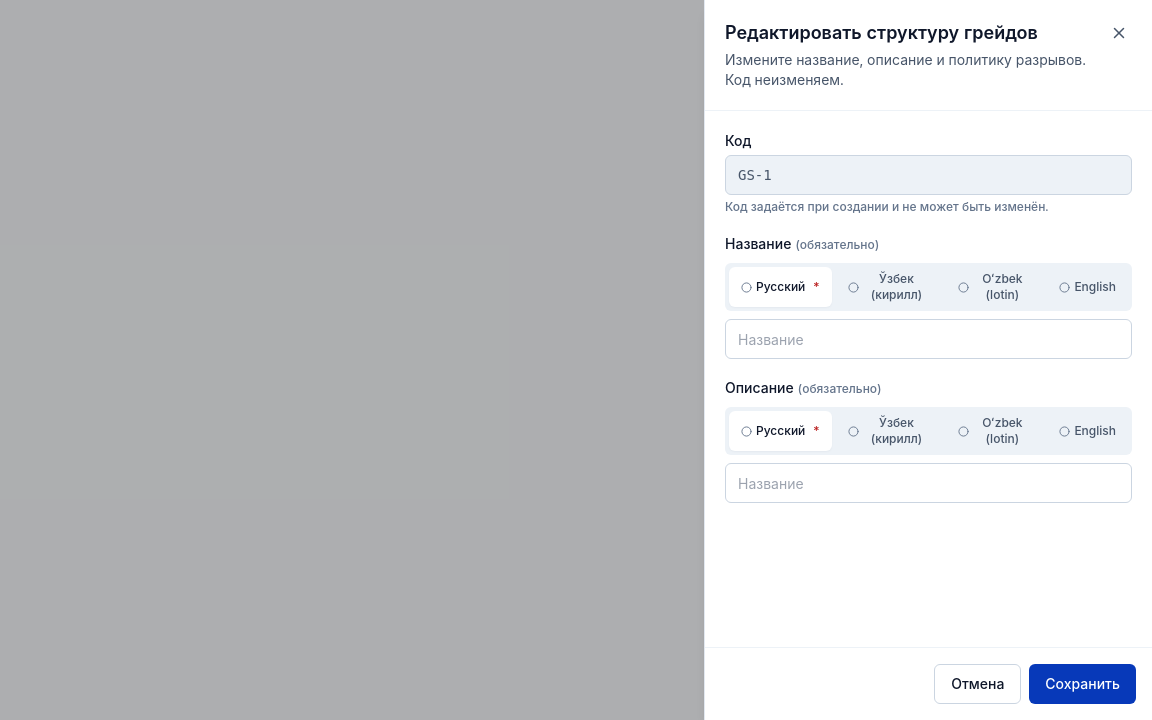
Test: GradeStructureMetadataDrawer (FE-5) › requires a name in at least one language
The width and height of the screenshot is (1152, 720).
What coordinates should you click on to do the following:
click the button "Сохранить"
I would click on:
 (1083, 684)
Its box is x1=1029 y1=664 x2=1136 y2=704.
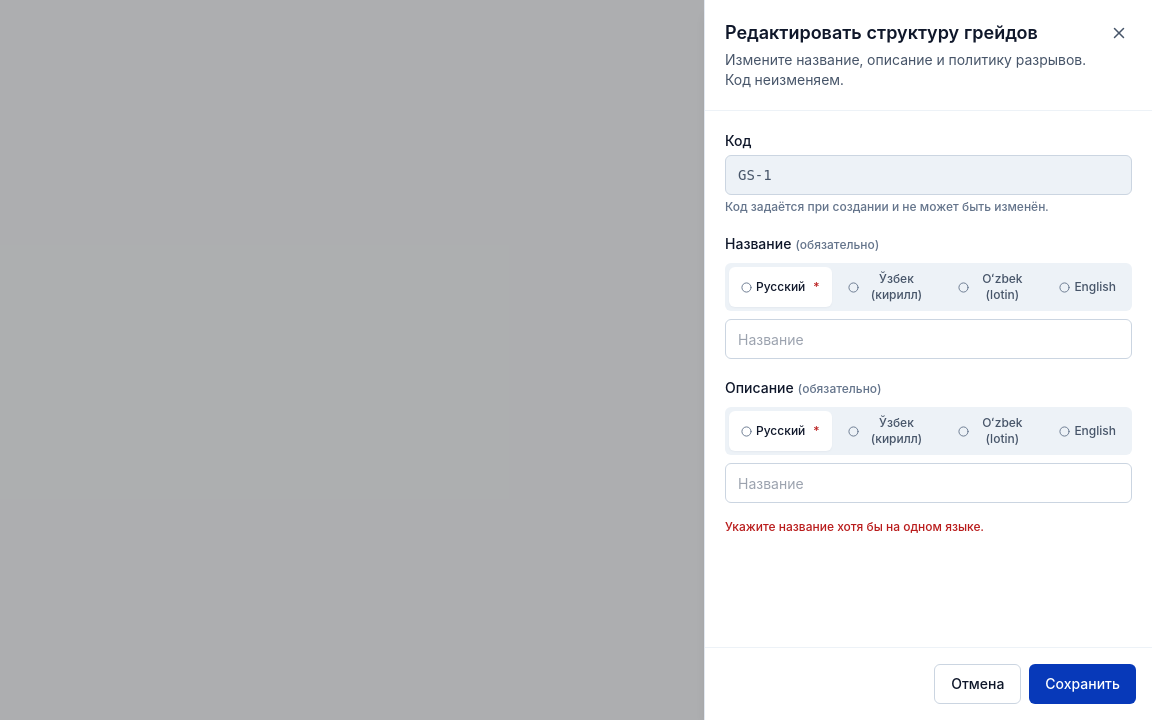
Check: the message "Укажите название хотя бы на одном языке." is shown, box x1=725 y1=519 x2=984 y2=534
